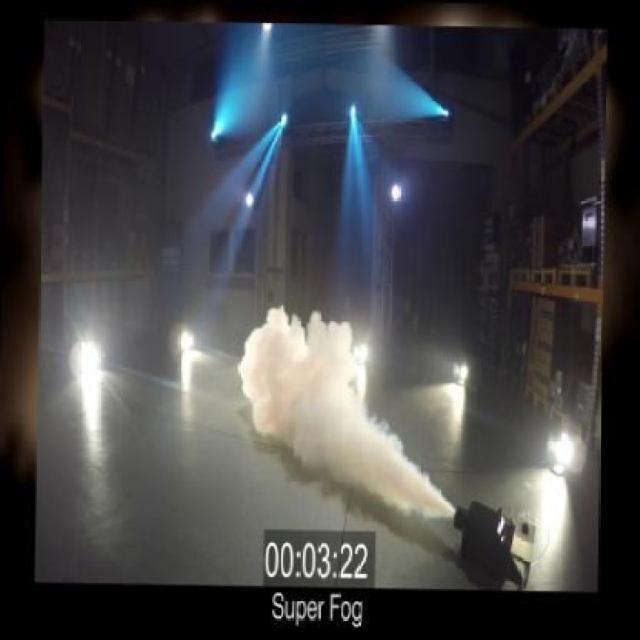fire: (236, 302, 449, 524)
